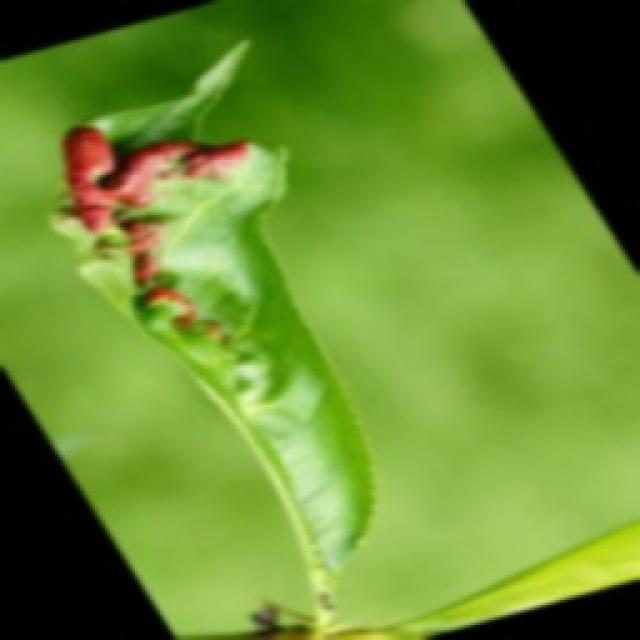peach_leaf_curl: (57, 118, 255, 348)
